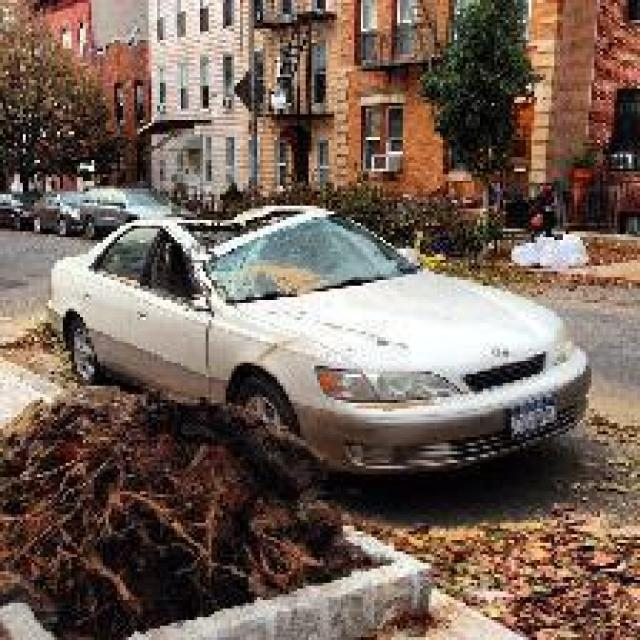damaged: (143, 208, 414, 302)
